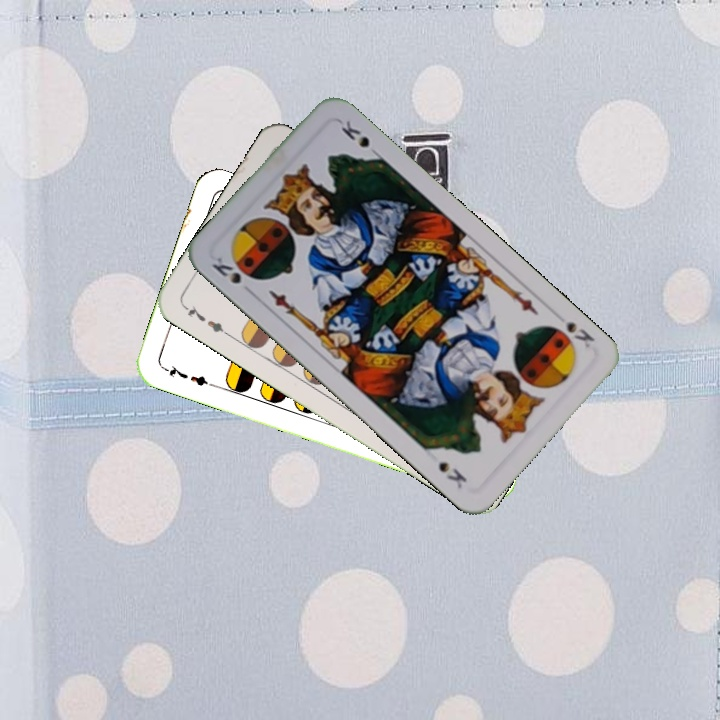E7: (179, 301, 232, 339), (159, 361, 217, 389)
SK: (207, 252, 244, 287), (562, 317, 597, 351)
